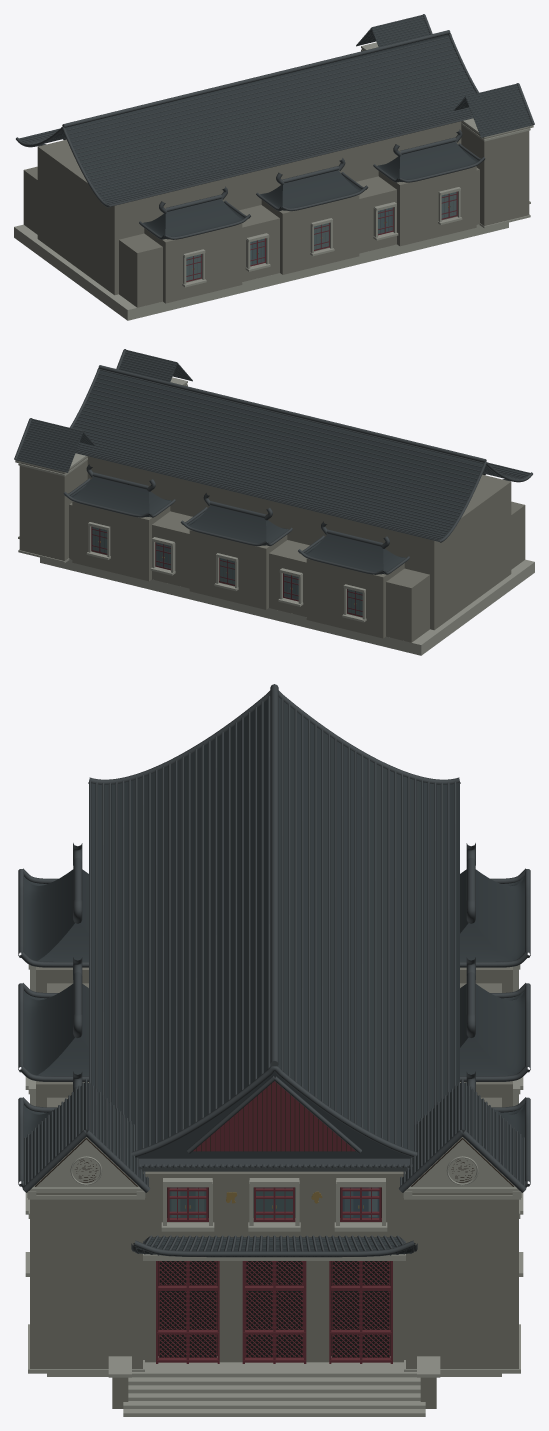
The model's file is auditorium.glb.
3 renders of one model, top to bottom at view 1: azimuth 30°, elevation 25°; view 2: azimuth 150°, elevation 25°; view 3: azimuth 270°, elevation 25°, orthographic. The views are drawn at different scales.
Parts seen in each view (by area): view 1: auditorium-brick, roof, roof-ribs, limestone, window-glass, redwood; view 2: auditorium-brick, roof, roof-ribs, limestone, window-glass, redwood; view 3: roof, roof-ribs, auditorium-brick, limestone, redwood, recess, window-wood.
Part boxes in pixels (x1,y1,x2,y2): auditorium-brick: [23, 49, 529, 307]; roof: [19, 16, 532, 239]; roof-ribs: [16, 14, 534, 239]; limestone: [14, 42, 533, 320]; window-glass: [186, 192, 456, 280]; redwood: [186, 191, 457, 281]; auditorium-brick: [19, 384, 525, 642]; roof: [16, 351, 529, 574]; roof-ribs: [14, 349, 532, 574]; limestone: [15, 377, 534, 655]; window-glass: [92, 527, 362, 615]; redwood: [91, 526, 362, 616]; roof: [21, 697, 527, 1254]; roof-ribs: [18, 684, 530, 1257]; auditorium-brick: [30, 966, 518, 1408]; limestone: [25, 964, 523, 1416]; redwood: [156, 1081, 392, 1363]; recess: [158, 1188, 390, 1357]; window-wood: [35, 1082, 513, 1186].
Bounding box in the file's own units: 40.49 × 14.07 × 20.84.
